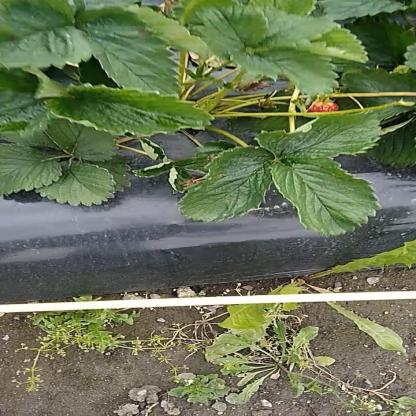ripe: (304, 98, 343, 121)
